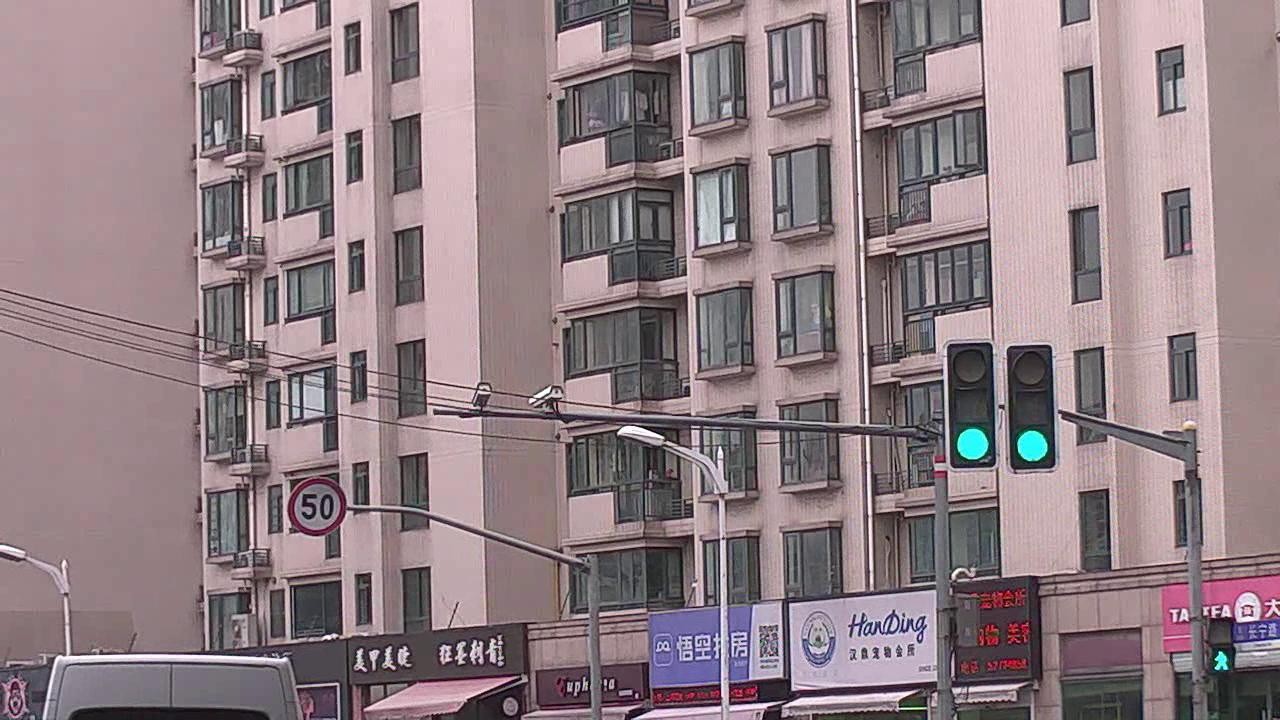traffic_light: (949, 343, 1000, 470), (1007, 344, 1053, 470)
